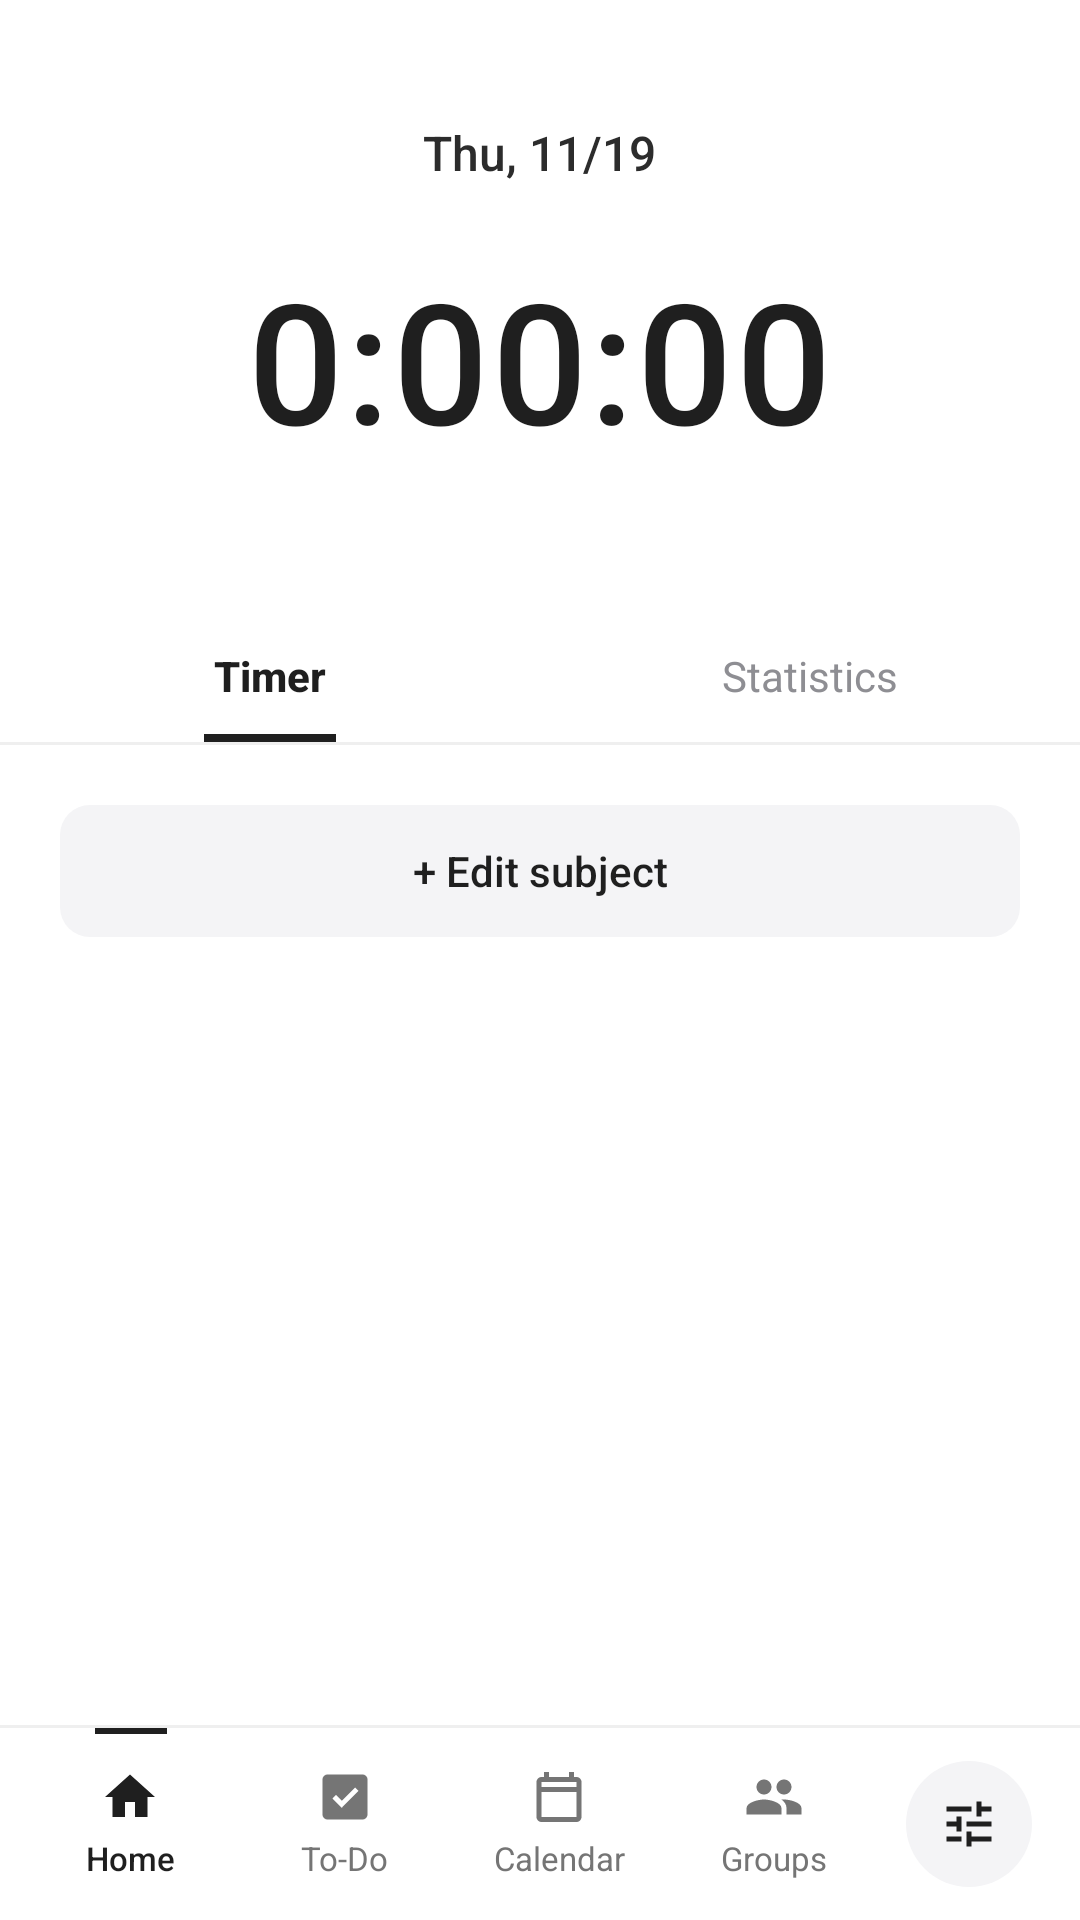

Where icons sit on this 1080 × 1920 app screen, as [x1,y1,x2,y2]:
Pengaturan: [946,1801,992,1847]
